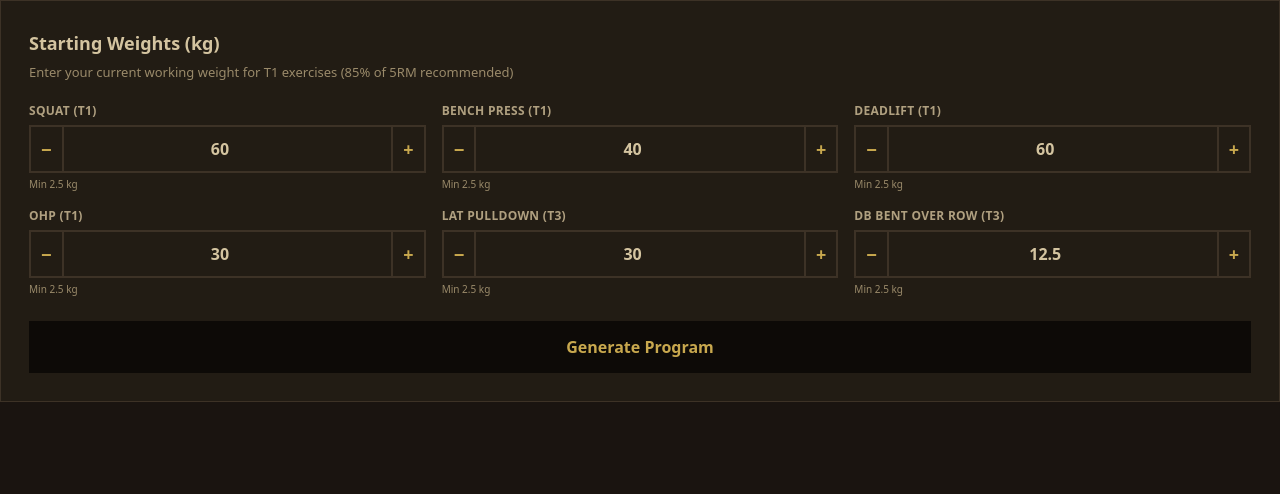
SetupForm › validation › should show summary error message when submit fails validation
Clear the number field labelled "Squat (T1)" at (227, 148), box [62,124,393,172]
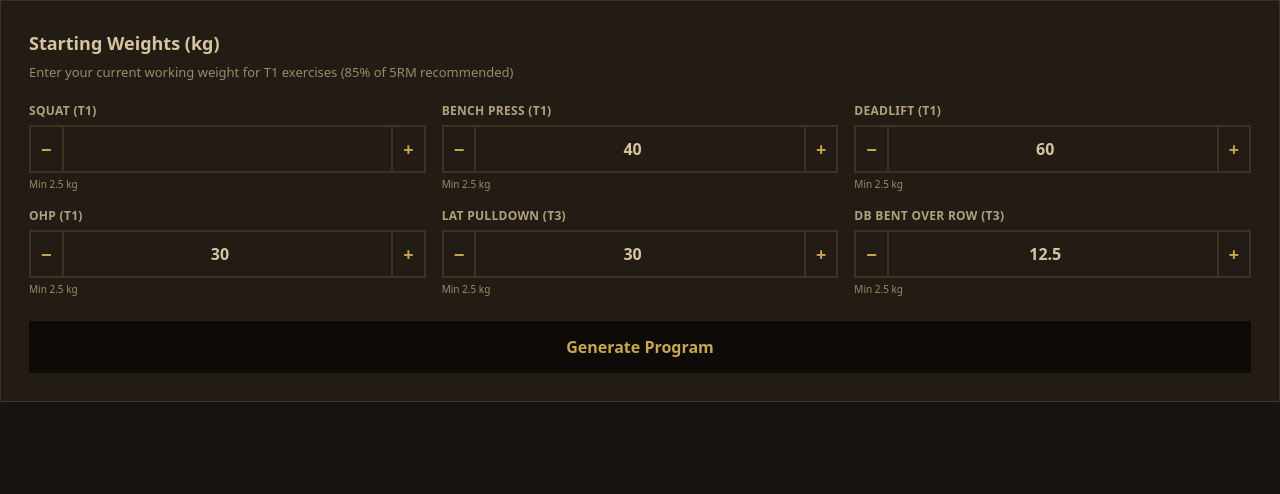
Click the button "Generate Program".
click(640, 346)  # box [29,320,1251,372]
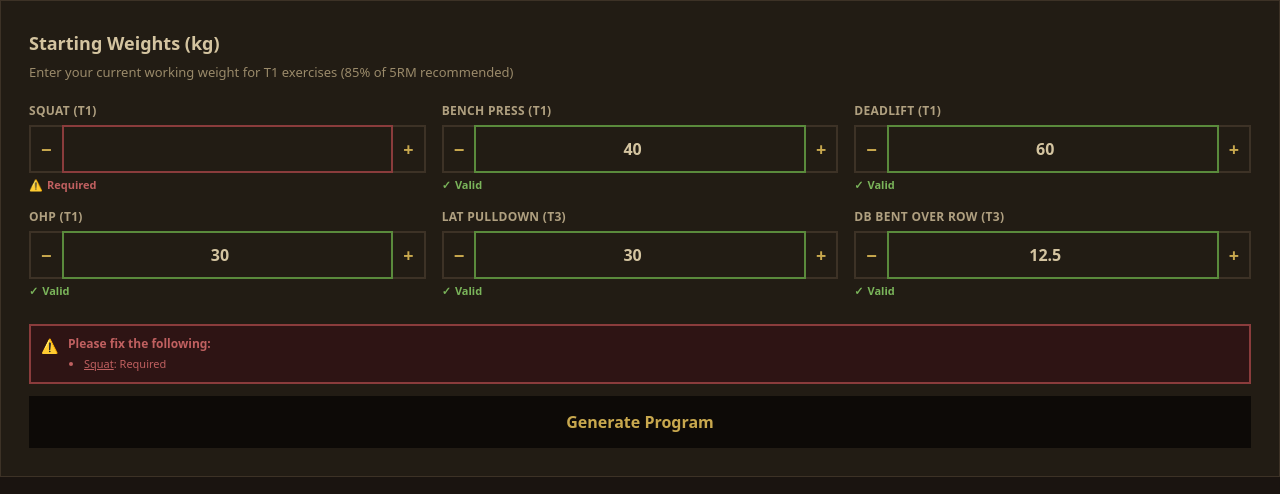
Now the text "Please fix the following:" is shown, box [68,334,211,352]
